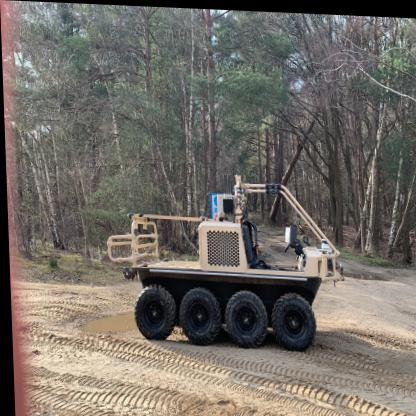UGV: (121, 213, 345, 349)
